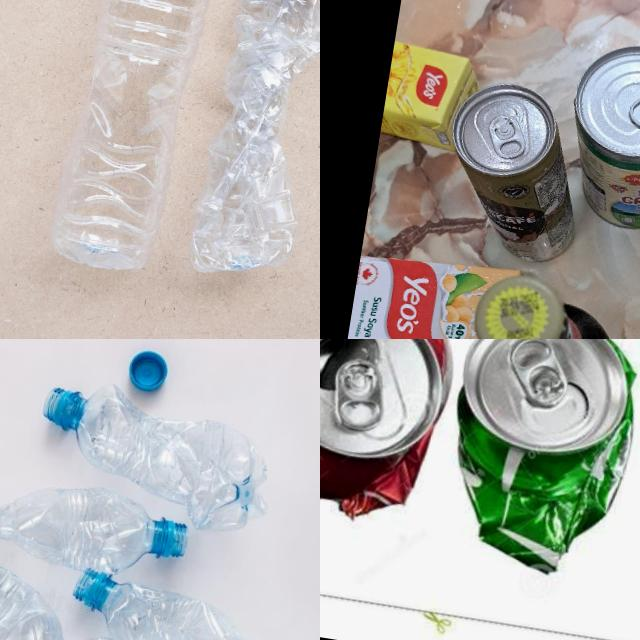aba de lata: (327, 354, 395, 435), (502, 339, 577, 410), (483, 112, 530, 160), (625, 91, 640, 144)
caixinha: (345, 244, 525, 339), (378, 39, 486, 156)
garrafa de vidro: (458, 269, 635, 339)
garrafa plástica: (48, 0, 221, 280), (28, 373, 282, 539), (183, 0, 320, 288), (0, 463, 192, 583), (59, 565, 320, 640), (0, 546, 183, 640)
lata: (433, 339, 640, 584), (433, 76, 598, 270), (320, 339, 469, 532), (556, 35, 640, 237)
tampa plástica: (124, 347, 170, 396)
